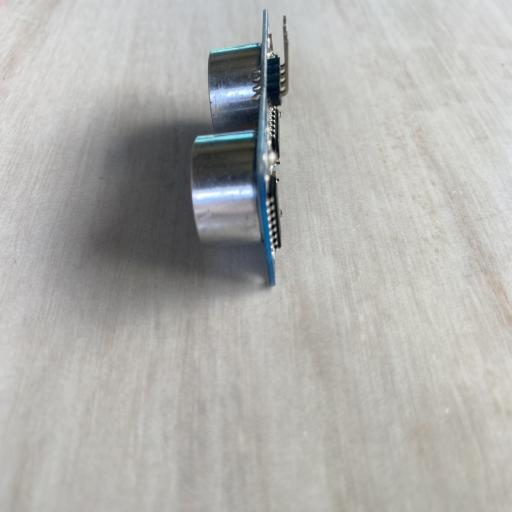Ultrasonic Sensor: (190, 8, 290, 288)
